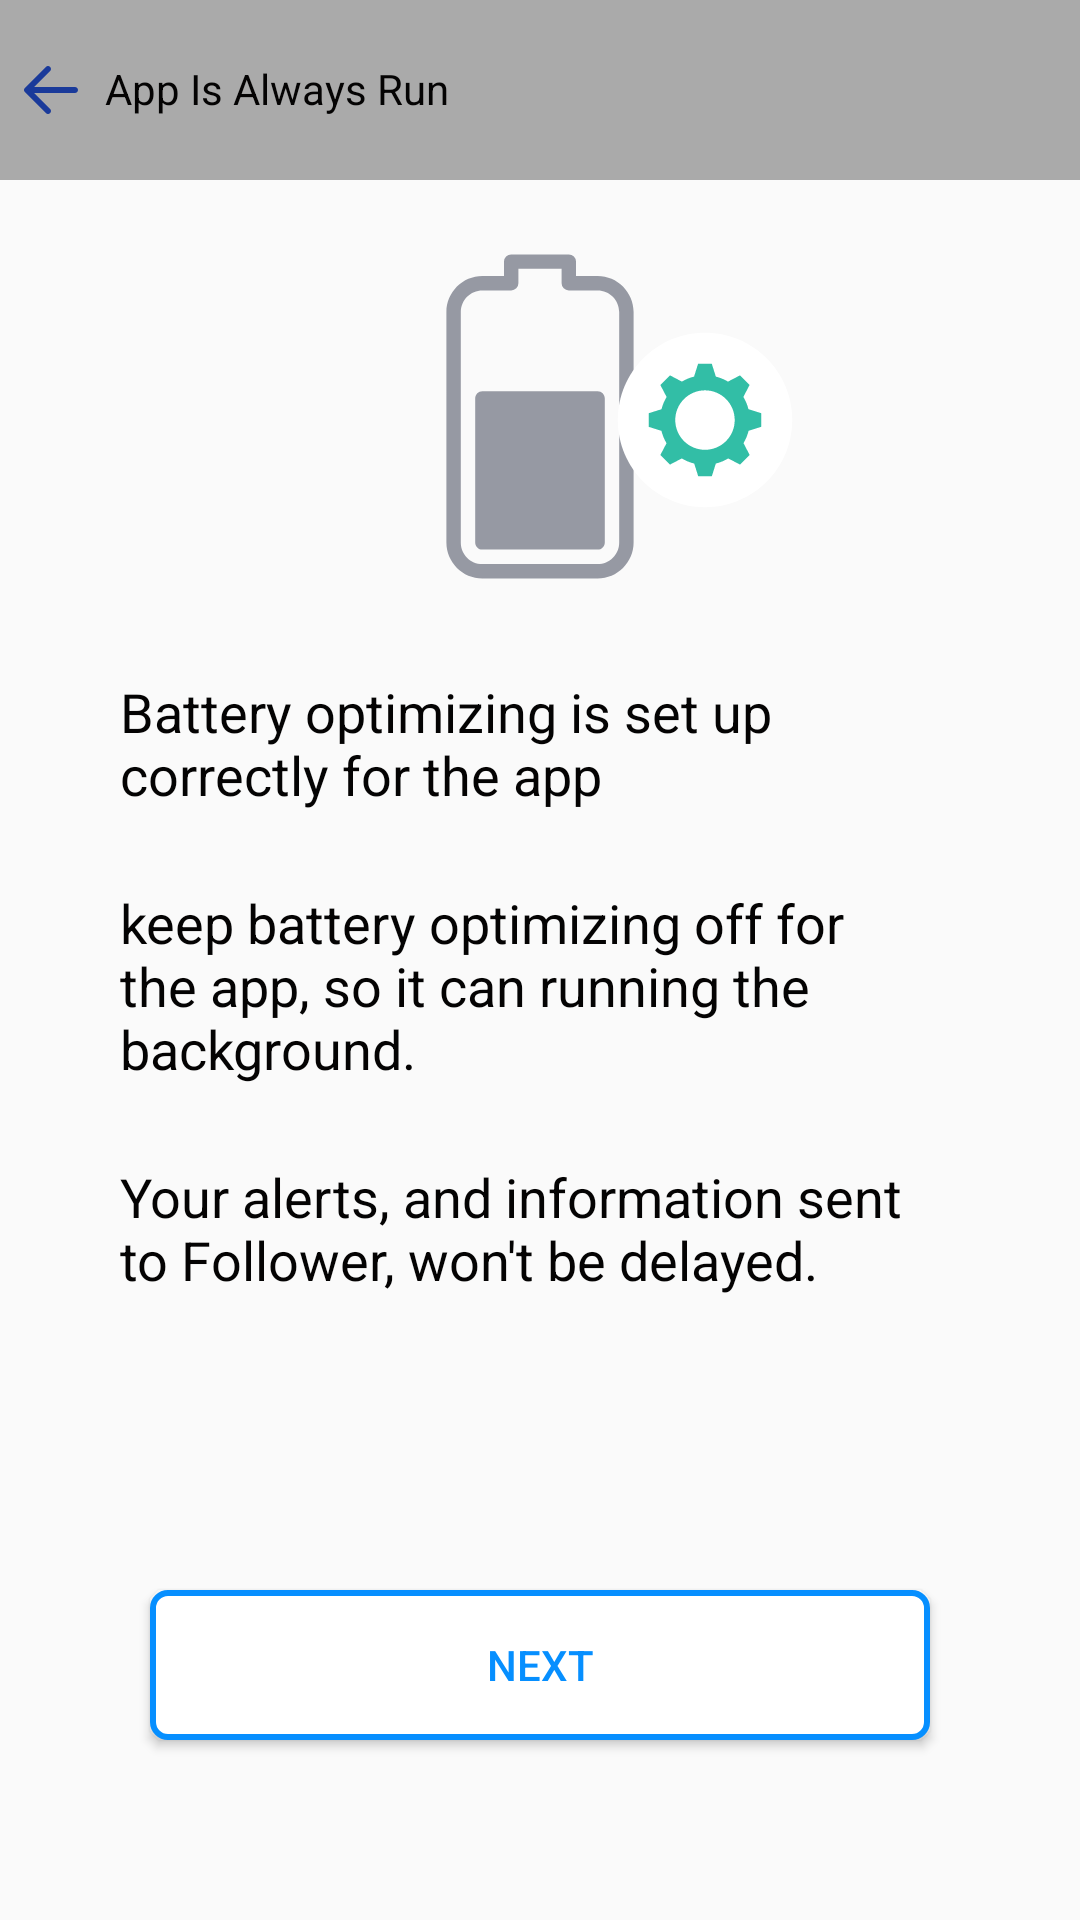

Point at icon controls on the screen. Image size 1080*1920, points as [x,y].
left: [51,90]
